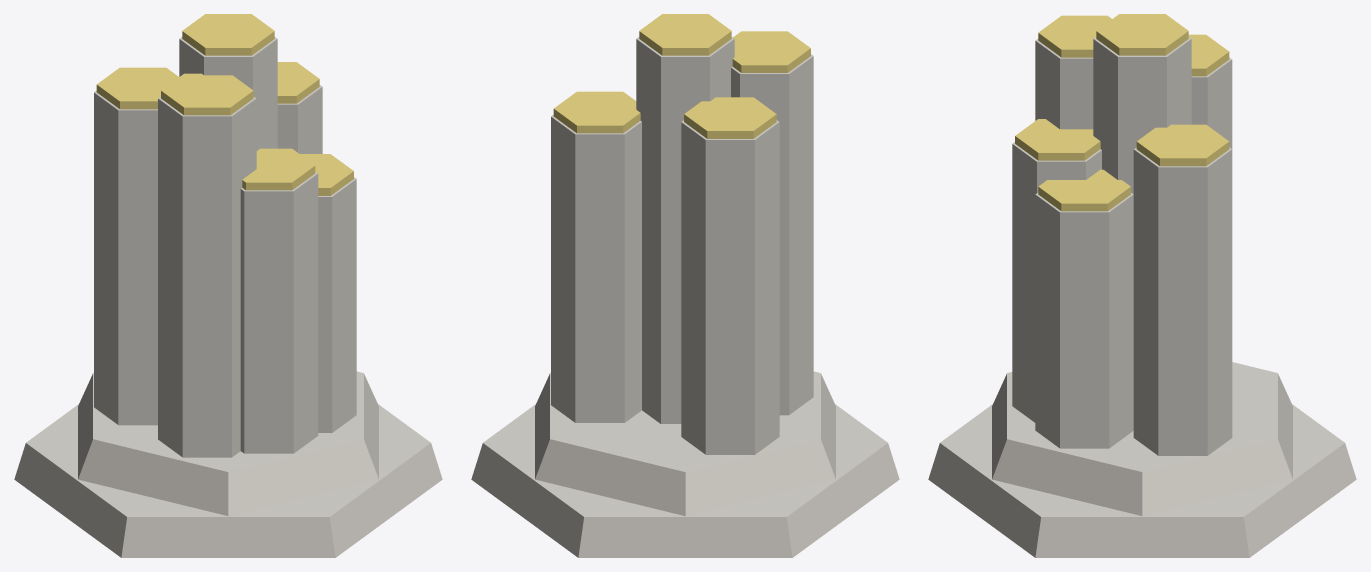
File: Islandia_Torre.fbx
The picture shows the model from 3 angles, left to right: view 1: azimuth 30°, elevation 25°; view 2: azimuth 150°, elevation 25°; view 3: azimuth 270°, elevation 25°; orthographic projection.
Visible parts, largest first — view 1: Islandia_Torre; view 2: Islandia_Torre; view 3: Islandia_Torre.
Part boxes in pixels (x1=…): Islandia_Torre: x1=14, y1=14, x2=442, y2=557; Islandia_Torre: x1=471, y1=14, x2=899, y2=557; Islandia_Torre: x1=928, y1=14, x2=1356, y2=557.
Bounding box in the file's own units: 0.6409 × 0.855 × 0.74.
